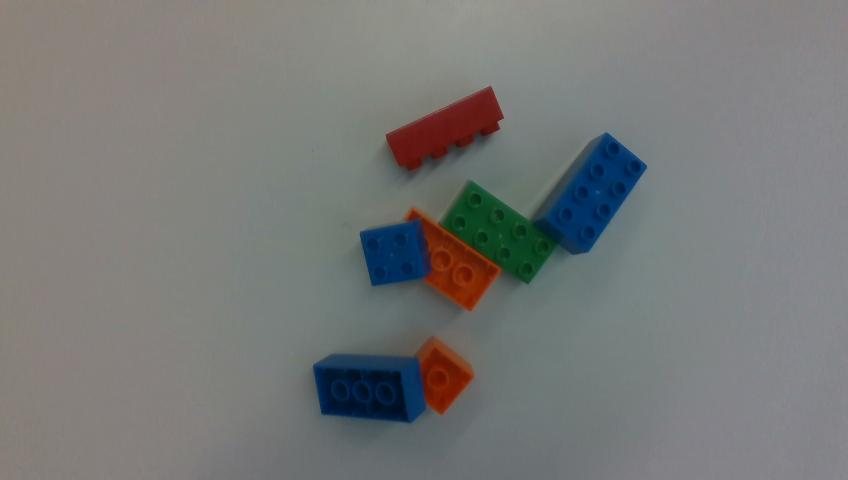2x2_blue: (361, 221, 428, 285)
2x2_orange: (417, 337, 473, 414)
4x2_blue: (534, 133, 646, 254), (314, 355, 426, 421)
4x2_green: (440, 184, 556, 283)
4x2_orange: (405, 208, 500, 310)
4x2_red: (386, 87, 503, 170)
